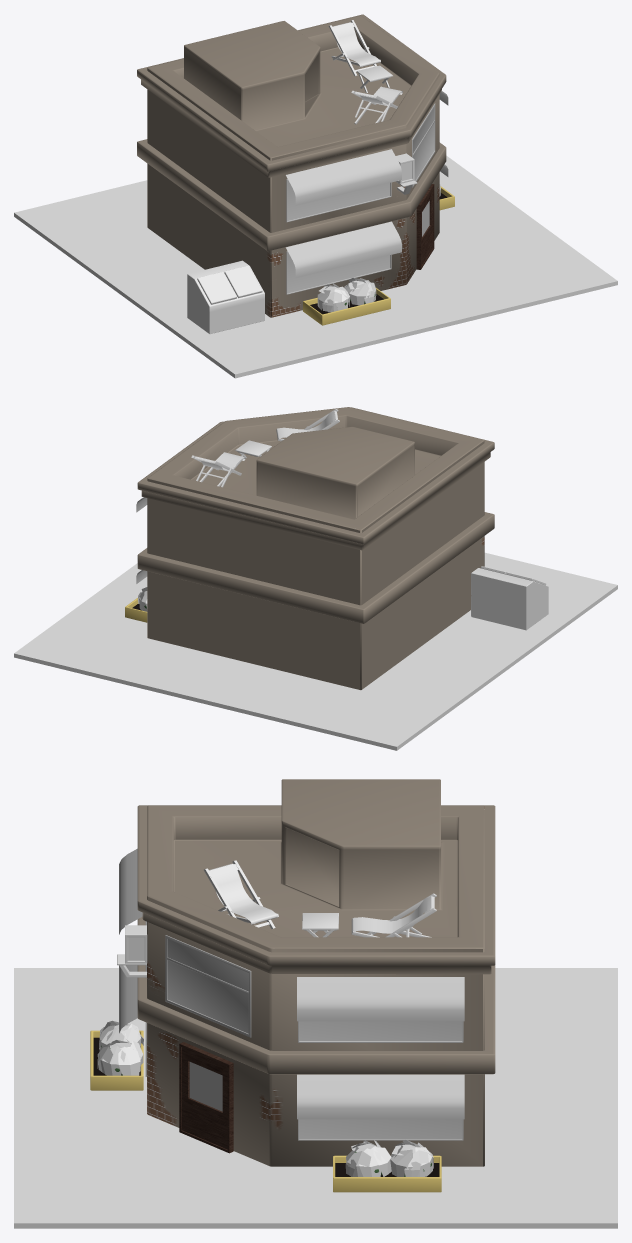
The model's file is newstore.fbx.
3 views of the same model, one above another, from view 1: azimuth 30°, elevation 25°; view 2: azimuth 150°, elevation 25°; view 3: azimuth 270°, elevation 25° (orthographic). The views are drawn at different scales.
Visible parts, largest first — view 1: Cube.001, Cube, Cube.020, Cube.004, Cube.010, Cube.011, Cube.005, Cube.017, Cube.003, Cube.002, Plane.001, Cube.019 (+1 smaller); view 2: Cube.001, Cube, Cube.020; view 3: Cube.001, Cube, Cube.006, Cube.008, Cube.002, Cube.003, Cube.009, Cube.007, Cube.018, Plane.000, Cube.017, Cube.010 (+6 smaller).
Boxes of the visible parts, bbox=[...] form: Cube.001: bbox=[137, 14, 446, 317]; Cube: bbox=[14, 155, 617, 378]; Cube.020: bbox=[187, 260, 264, 333]; Cube.004: bbox=[286, 221, 401, 277]; Cube.010: bbox=[286, 149, 401, 205]; Cube.011: bbox=[286, 179, 391, 222]; Cube.005: bbox=[286, 251, 391, 294]; Cube.017: bbox=[303, 288, 390, 325]; Cube.003: bbox=[416, 184, 434, 269]; Cube.002: bbox=[412, 103, 435, 187]; Plane.001: bbox=[332, 22, 379, 67]; Cube.019: bbox=[395, 153, 417, 194]; Cube.001: bbox=[137, 407, 494, 690]; Cube: bbox=[14, 552, 617, 750]; Cube.020: bbox=[471, 566, 548, 630]; Cube.001: bbox=[137, 779, 495, 1166]; Cube: bbox=[14, 968, 617, 1228]; Cube.006: bbox=[297, 1074, 464, 1119]; Cube.008: bbox=[297, 977, 464, 1021]; Cube.002: bbox=[165, 935, 251, 1037]; Cube.003: bbox=[179, 1042, 233, 1153]; Cube.009: bbox=[298, 1021, 463, 1042]; Cube.007: bbox=[298, 1119, 463, 1140]; Cube.018: bbox=[333, 1155, 441, 1192]; Plane.000: bbox=[209, 863, 277, 924]; Cube.017: bbox=[90, 1030, 143, 1090]; Cube.010: bbox=[119, 848, 142, 934].
Bounding box in the file's own units: 1000 × 483 × 1000.
